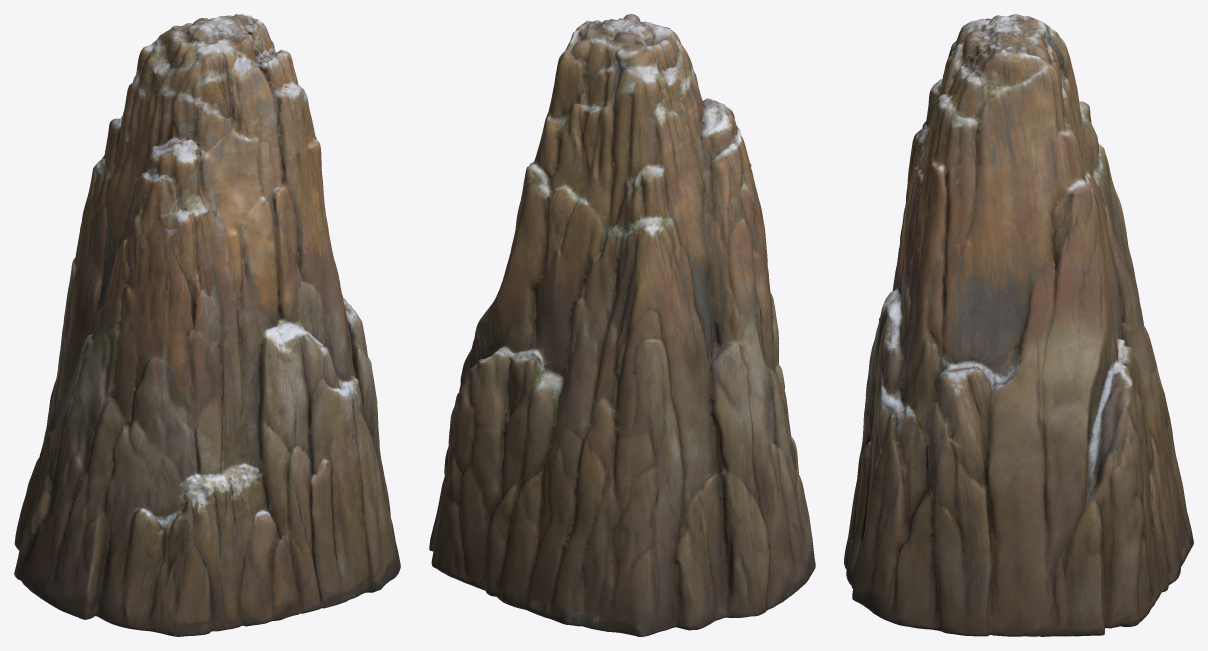
File: Sentinel_Peak.glb
The picture shows the model from 3 angles, left to right: view 1: azimuth 30°, elevation 25°; view 2: azimuth 150°, elevation 25°; view 3: azimuth 270°, elevation 25°; orthographic projection. The views are drawn at different scales.
Parts seen in each view (by area): view 1: Sentinel_Peak; view 2: Sentinel_Peak; view 3: Sentinel_Peak.
Boxes of the visible parts, <box> form: Sentinel_Peak: <box>14,14,400,636</box>; Sentinel_Peak: <box>429,14,815,636</box>; Sentinel_Peak: <box>844,14,1193,636</box>.
Size of the model in its own units: 1.28 by 1.99 by 1.17.
1 material, 1 textured.
